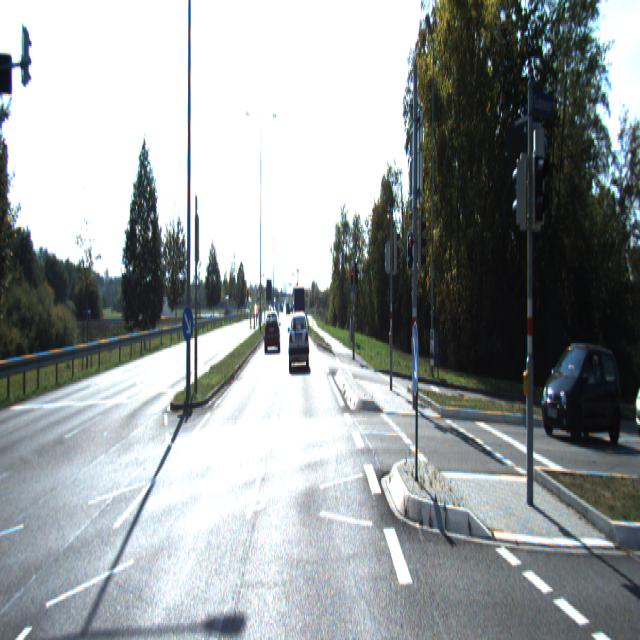Car: (541, 337, 625, 445), (289, 311, 309, 365), (264, 312, 281, 354), (293, 286, 306, 339)
